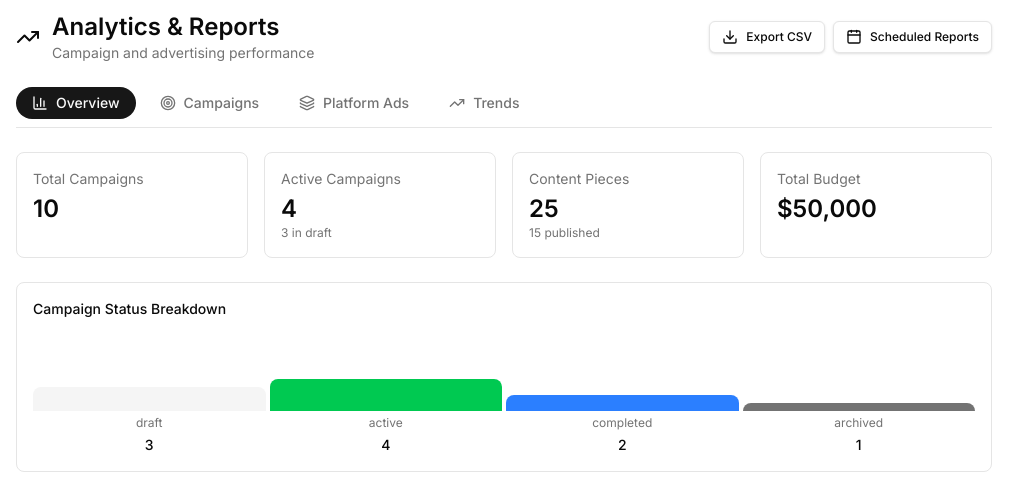
AnalyticsPage › switches to platform ads tab
Click the button "Platform Ads" at (354, 103), box [283, 87, 425, 119]
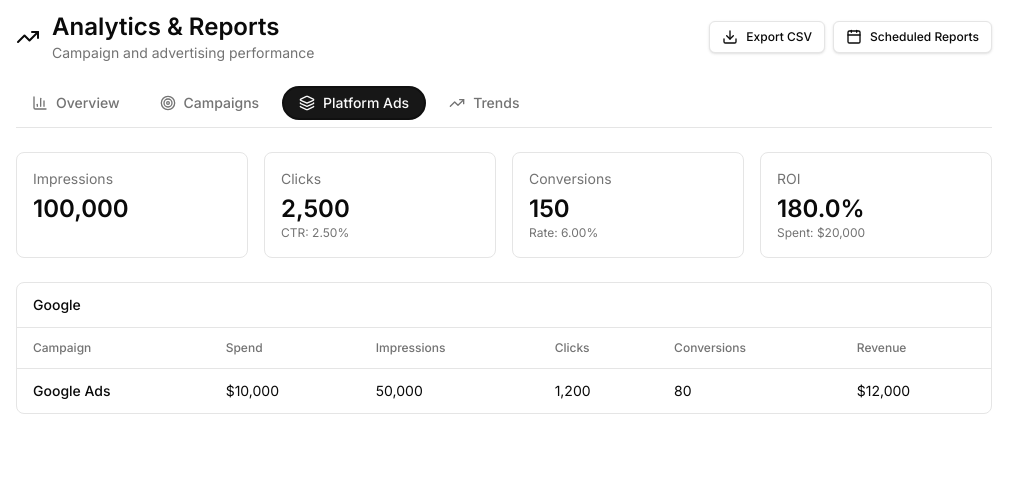
Expected: the text "CTR: 2.50%" is shown, [281, 225, 349, 240]
Expected: the heading "google" is shown, [33, 296, 81, 313]
